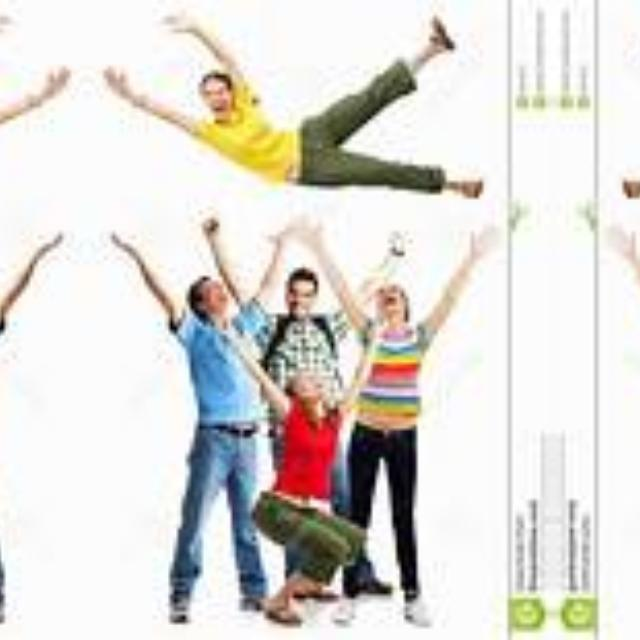person: (120, 23, 480, 233), (273, 363, 376, 640), (0, 23, 52, 233), (626, 23, 640, 233)
